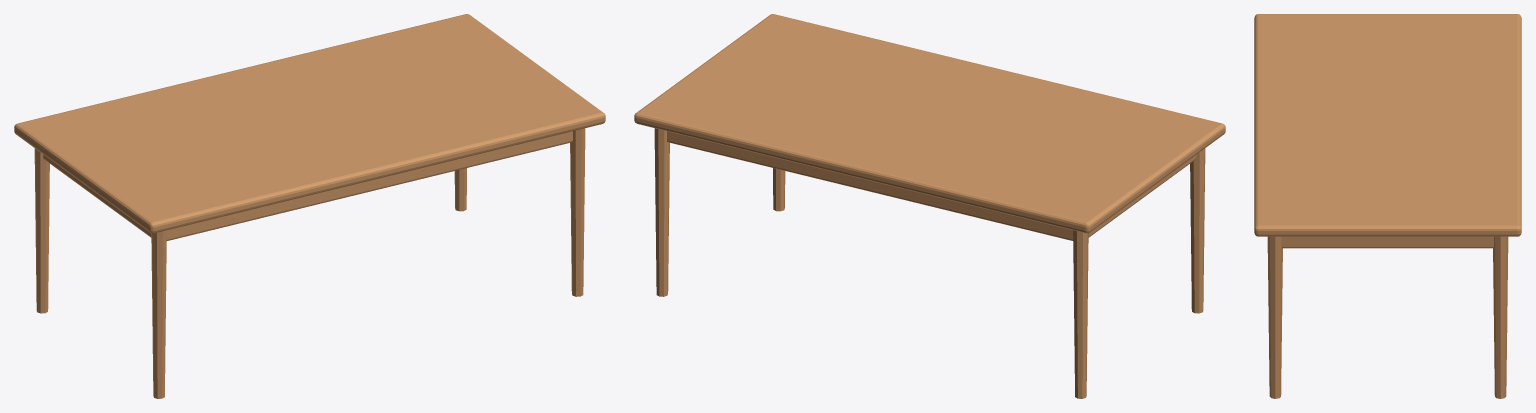
The model's file is table-plain.glb.
3 renders of one model, left to right at view 1: azimuth 30°, elevation 25°; view 2: azimuth 150°, elevation 25°; view 3: azimuth 270°, elevation 25°, orthographic. The views are drawn at different scales.
Parts seen in each view (by area): view 1: table-plain; view 2: table-plain; view 3: table-plain.
Boxes of the visible parts, bbox=[...] form: table-plain: bbox=[14, 14, 605, 398]; table-plain: bbox=[634, 14, 1225, 398]; table-plain: bbox=[1254, 14, 1521, 398].
Bounding box in the file's own units: 1.94 × 0.75 × 1.02.
